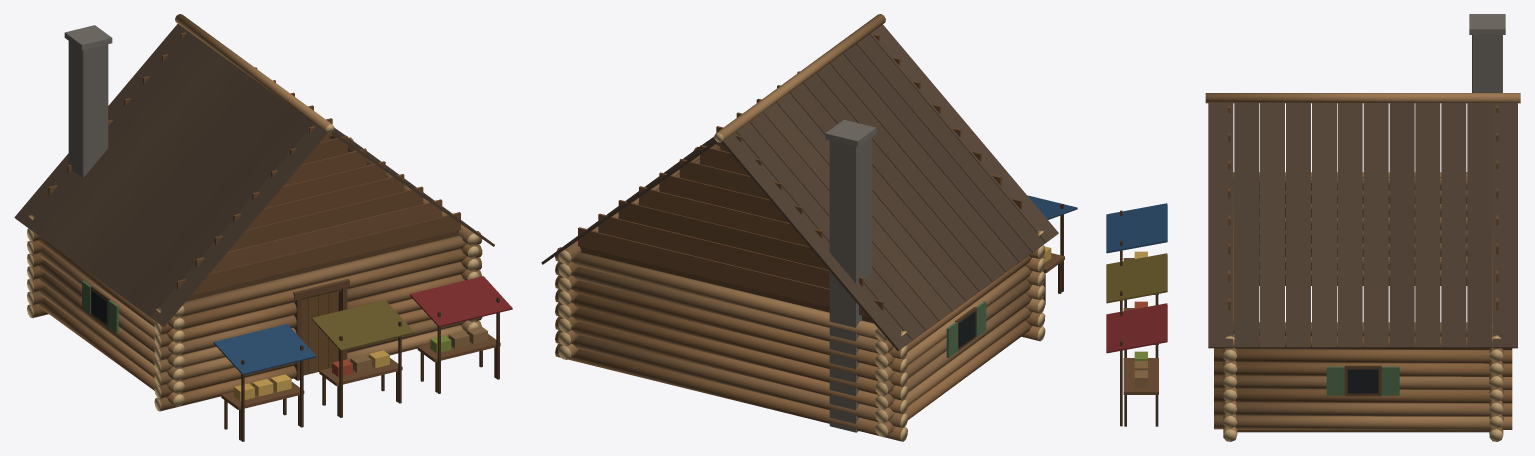
The model's file is market_1.glb.
3 views of the same model, side by side, from view 1: azimuth 30°, elevation 25°; view 2: azimuth 150°, elevation 25°; view 3: azimuth 270°, elevation 25° (orthographic). The views are drawn at different scales.
Parts seen in each view (by area): view 1: market1_roof, market1_log, market1_wood, market1_cloth, market1_stone; view 2: market1_roof, market1_log, market1_wood, market1_stone, market1_cloth; view 3: market1_roof, market1_log, market1_cloth, market1_wood, market1_stone, market1_glass.
Part boxes in pixels (x1=…): market1_roof: x1=14, y1=24, x2=494, y2=326; market1_log: x1=27, y1=14, x2=482, y2=411; market1_wood: x1=48, y1=32, x2=500, y2=441; market1_cloth: x1=213, y1=276, x2=512, y2=375; market1_stone: x1=64, y1=25, x2=112, y2=177; market1_roof: x1=541, y1=24, x2=1058, y2=351; market1_log: x1=555, y1=14, x2=1045, y2=441; market1_wood: x1=578, y1=34, x2=1064, y2=357; market1_stone: x1=825, y1=119, x2=876, y2=432; market1_cloth: x1=1027, y1=195, x2=1077, y2=219; market1_roof: x1=1208, y1=103, x2=1517, y2=348; market1_log: x1=1205, y1=93, x2=1520, y2=441; market1_cloth: x1=1106, y1=203, x2=1167, y2=353; market1_wood: x1=1120, y1=105, x2=1498, y2=432; market1_stone: x1=1469, y1=14, x2=1505, y2=206; market1_glass: x1=1347, y1=369, x2=1378, y2=393.
Bounding box in the file's own units: 9.04 × 7.09 × 9.34.
